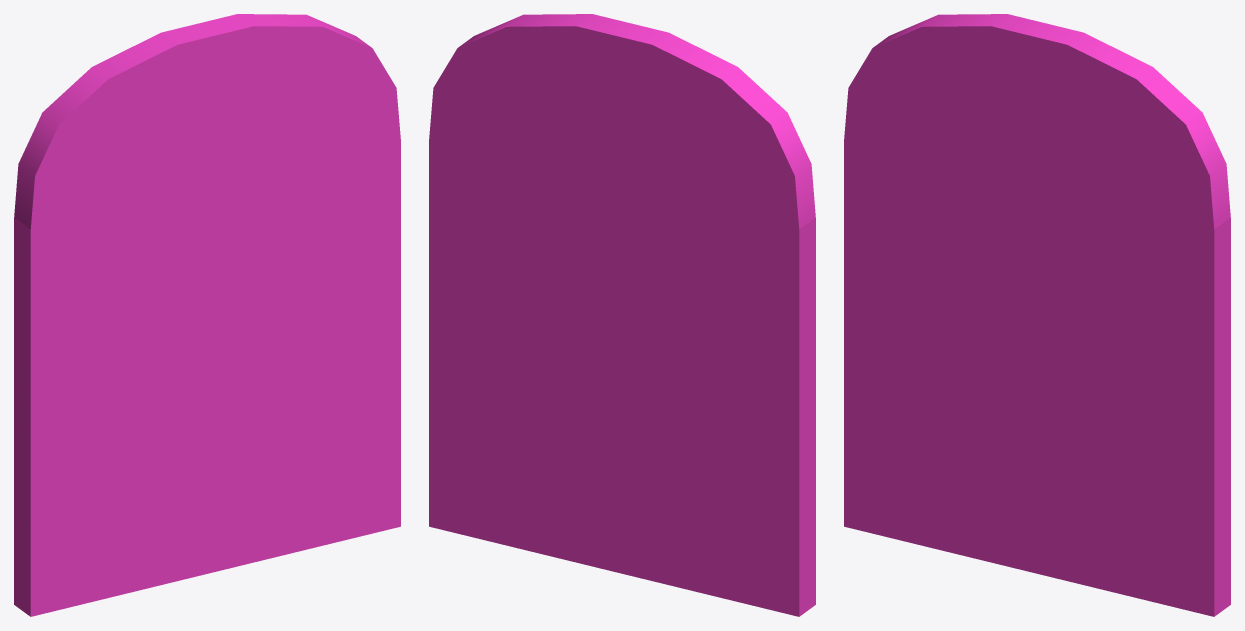
File: Puerta.obj
3 views of the same model, side by side, from view 1: azimuth 30°, elevation 25°; view 2: azimuth 150°, elevation 25°; view 3: azimuth 330°, elevation 25° (orthographic).
Visible parts, largest first — view 1: pasted__pCube5 group11; view 2: pasted__pCube5 group11; view 3: pasted__pCube5 group11.
Boxes of the visible parts, x1=… form: pasted__pCube5 group11: x1=14, y1=14, x2=400, y2=616; pasted__pCube5 group11: x1=429, y1=14, x2=815, y2=616; pasted__pCube5 group11: x1=844, y1=14, x2=1230, y2=616.
Size of the model in its own units: 0.2212 by 0.3064 by 0.0172.
Materials: 1 (1 with a texture image).
